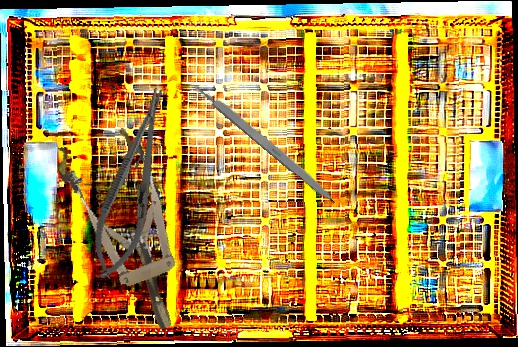Needle Holder: (82, 82, 183, 286)
Scalpel Handle: (192, 79, 340, 207)
Speculum: (50, 120, 206, 344)
